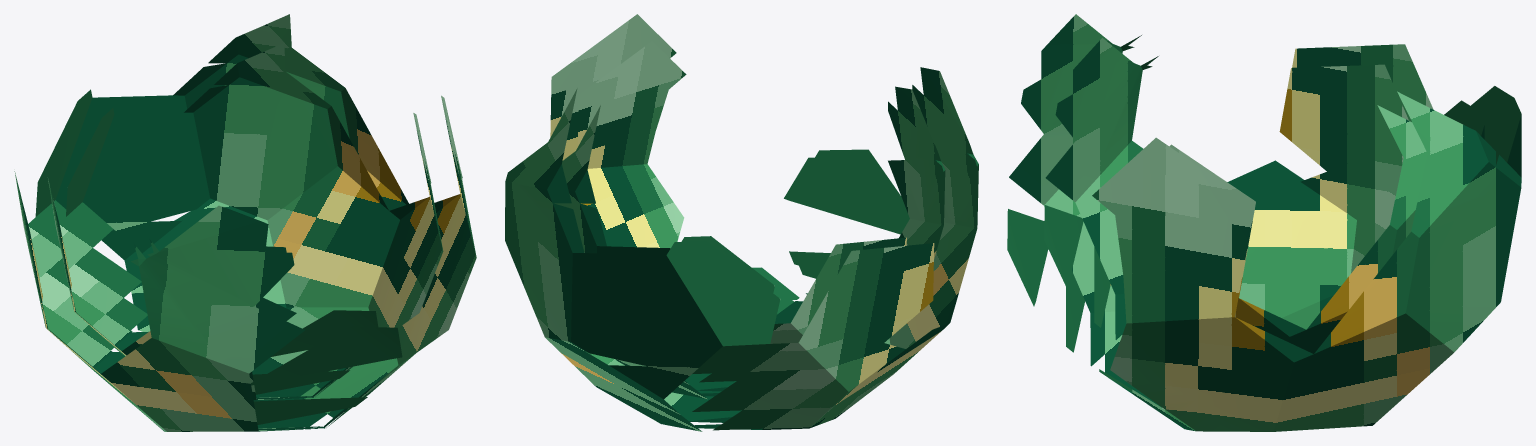
Rendered from delta_orb_3.obj.
3 views of the same model, side by side, from view 1: azimuth 30°, elevation 25°; view 2: azimuth 150°, elevation 25°; view 3: azimuth 270°, elevation 25° (orthographic). The views are drawn at different scales.
Visible parts, largest first — view 1: pSolid4; view 2: pSolid4; view 3: pSolid4.
Boxes of the visible parts, x1,y1,x2,y2 form: pSolid4: [14, 14, 476, 431]; pSolid4: [505, 14, 978, 431]; pSolid4: [1007, 14, 1521, 431].
Bounding box in the file's own units: 0.8449 × 0.6899 × 0.8251.
